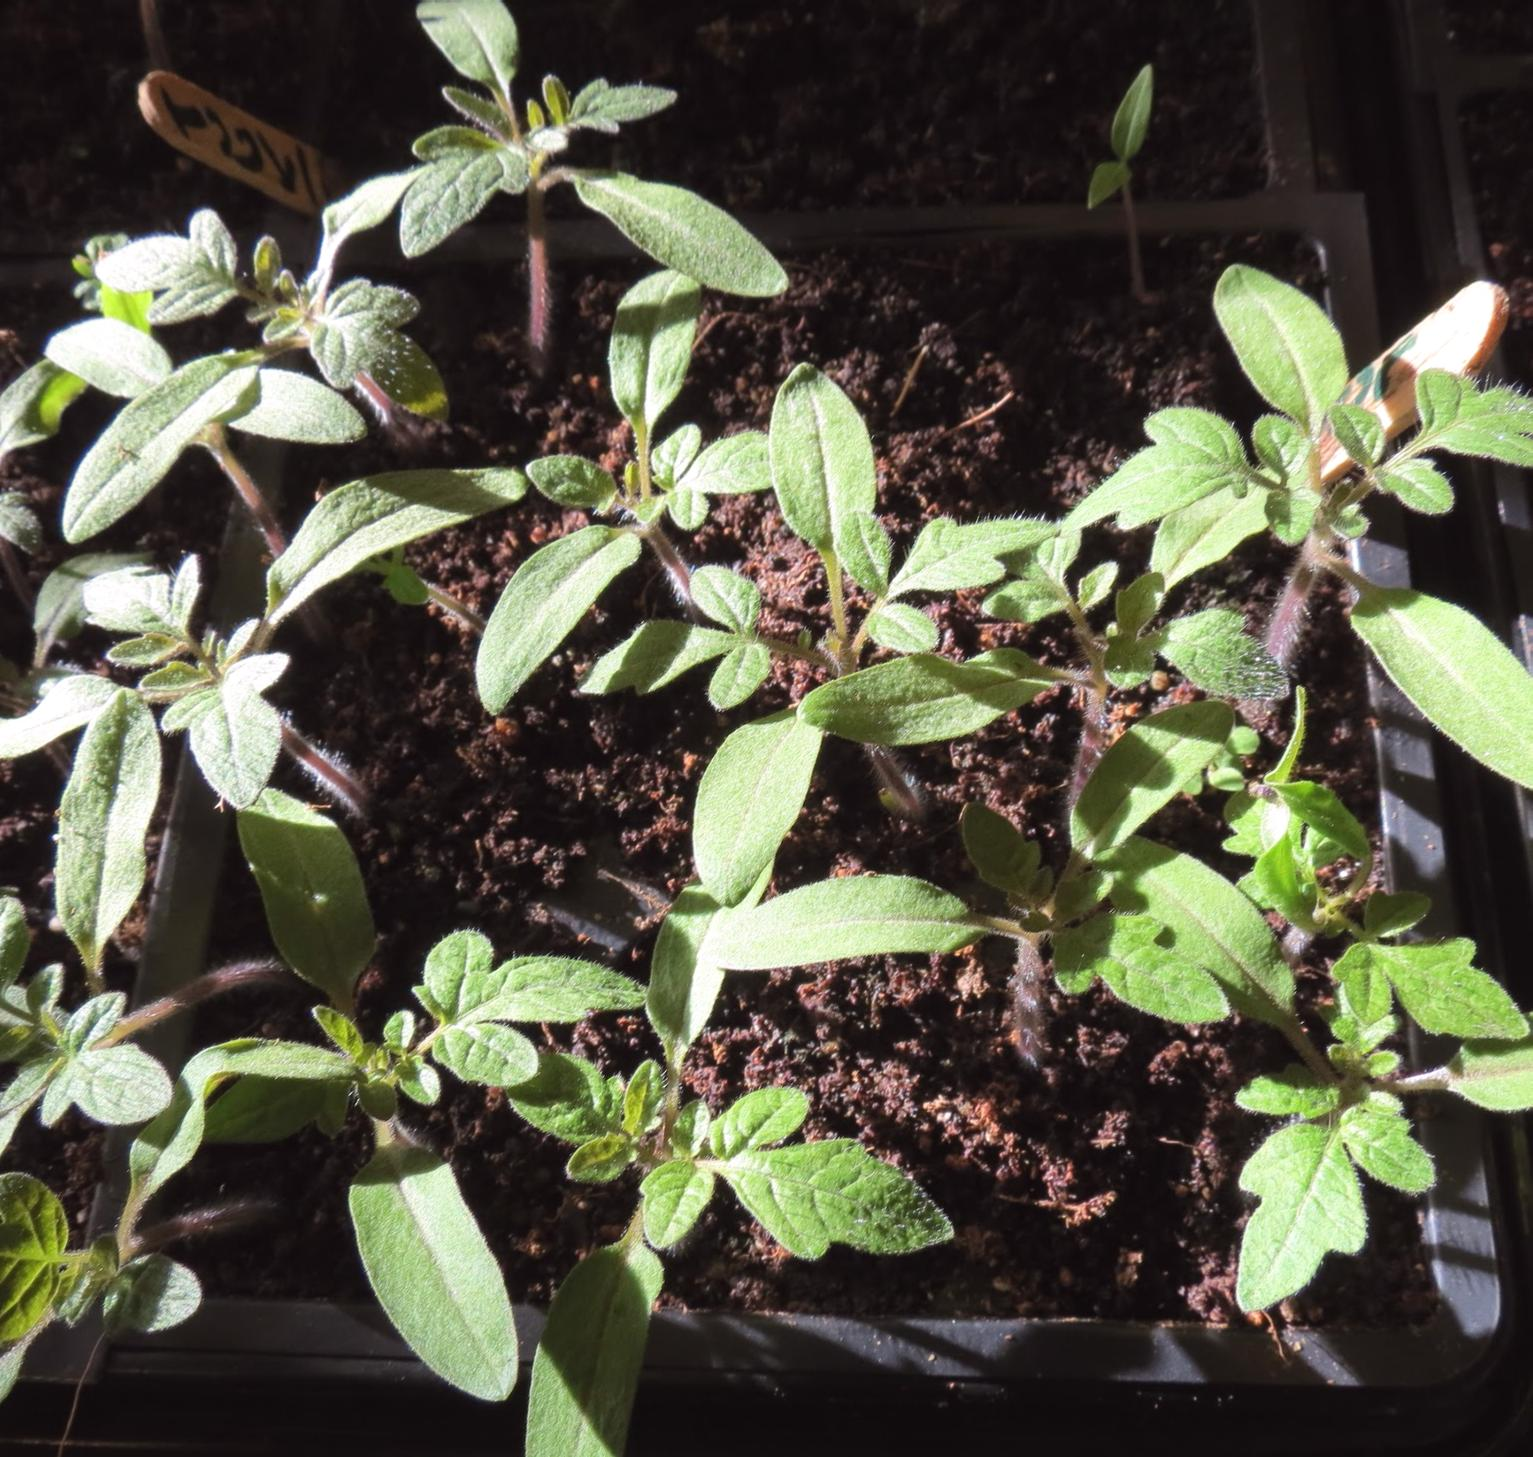Tomato leaf: (1199, 1063, 1434, 1332), (339, 1105, 524, 1415), (48, 329, 290, 550), (21, 661, 168, 1015), (222, 774, 394, 1067), (469, 487, 662, 728), (387, 919, 650, 1094), (250, 464, 543, 613), (1366, 567, 1533, 820), (538, 153, 794, 311), (731, 1134, 966, 1301), (504, 1237, 680, 1457), (687, 687, 840, 908), (1062, 707, 1236, 897), (1211, 236, 1356, 460), (694, 870, 983, 980), (1048, 404, 1255, 553), (1322, 362, 1533, 507), (766, 335, 886, 581), (593, 262, 721, 467), (415, 0, 550, 159), (401, 121, 534, 278), (1350, 920, 1518, 1028)
